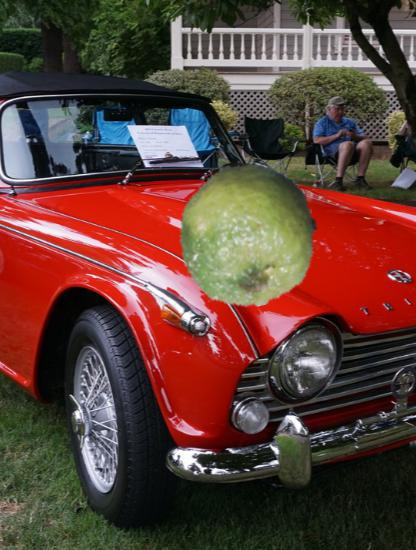Limes: (176, 163, 320, 307)
